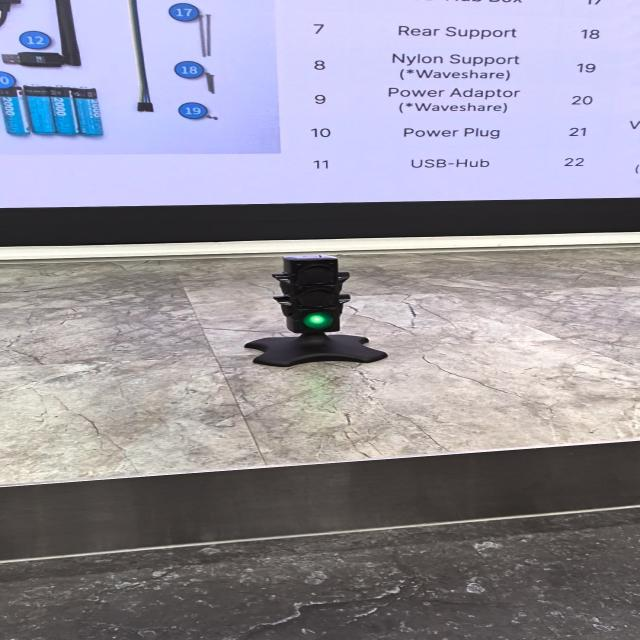green_light: (303, 312, 333, 329)
